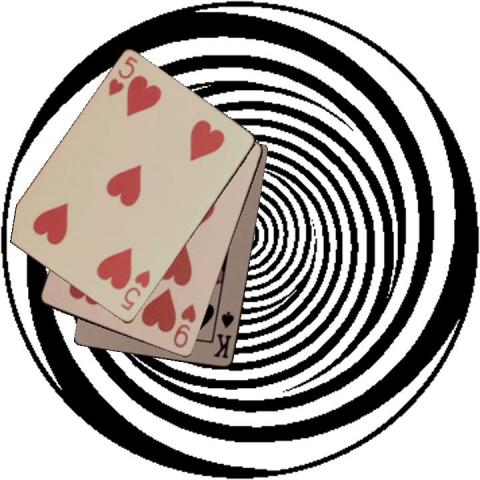5h: (117, 266, 152, 313), (106, 53, 139, 98)
9h: (170, 301, 198, 350)
Ks: (211, 309, 236, 360)
